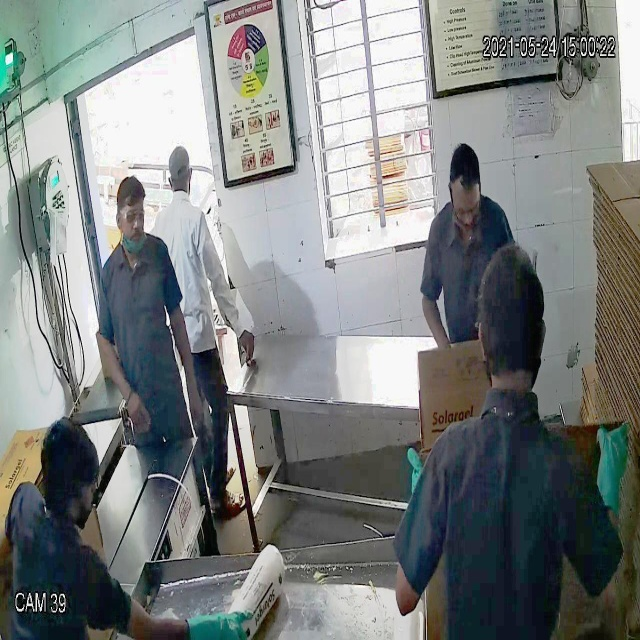Gafas: (113, 206, 146, 231)
